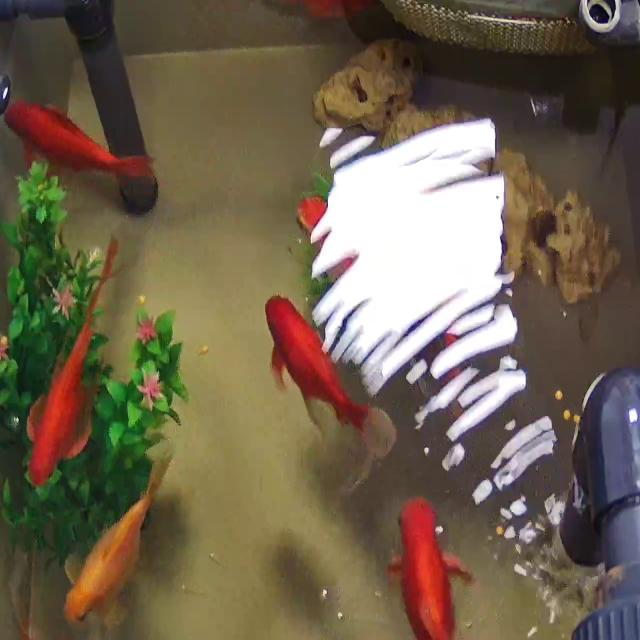fish: (24, 238, 122, 488), (60, 459, 172, 626), (267, 293, 369, 446), (390, 492, 492, 640), (2, 99, 157, 194), (229, 0, 374, 21), (296, 194, 327, 237)
